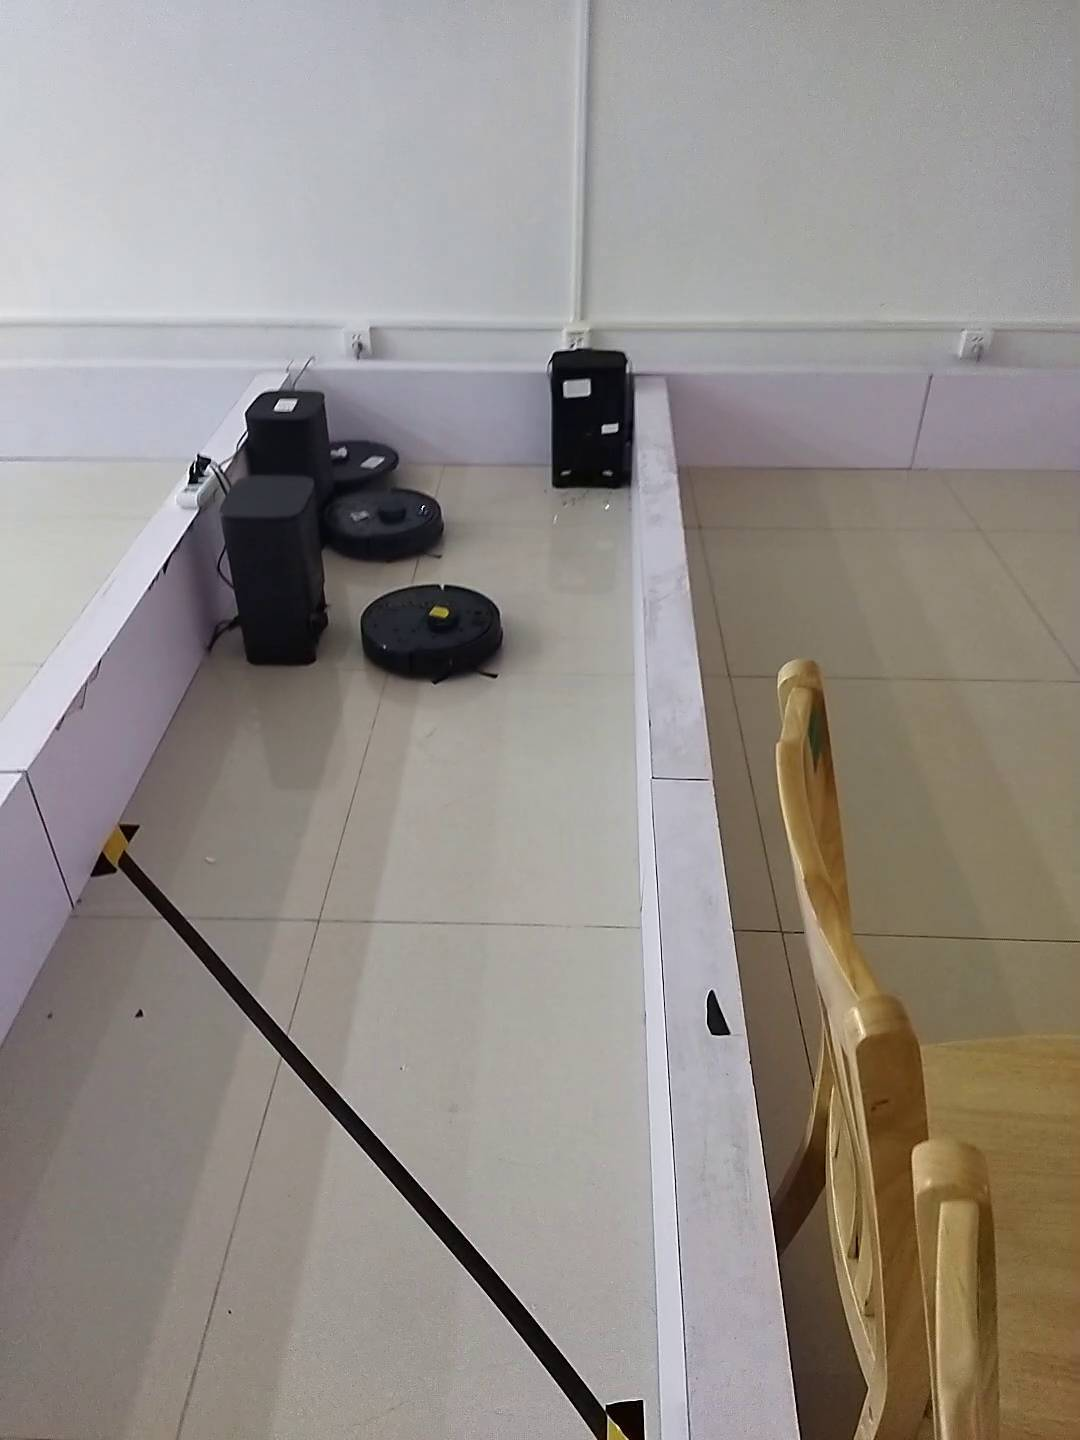dust collecting barrel: (223, 476, 326, 668), (244, 391, 329, 530), (551, 348, 633, 491)
